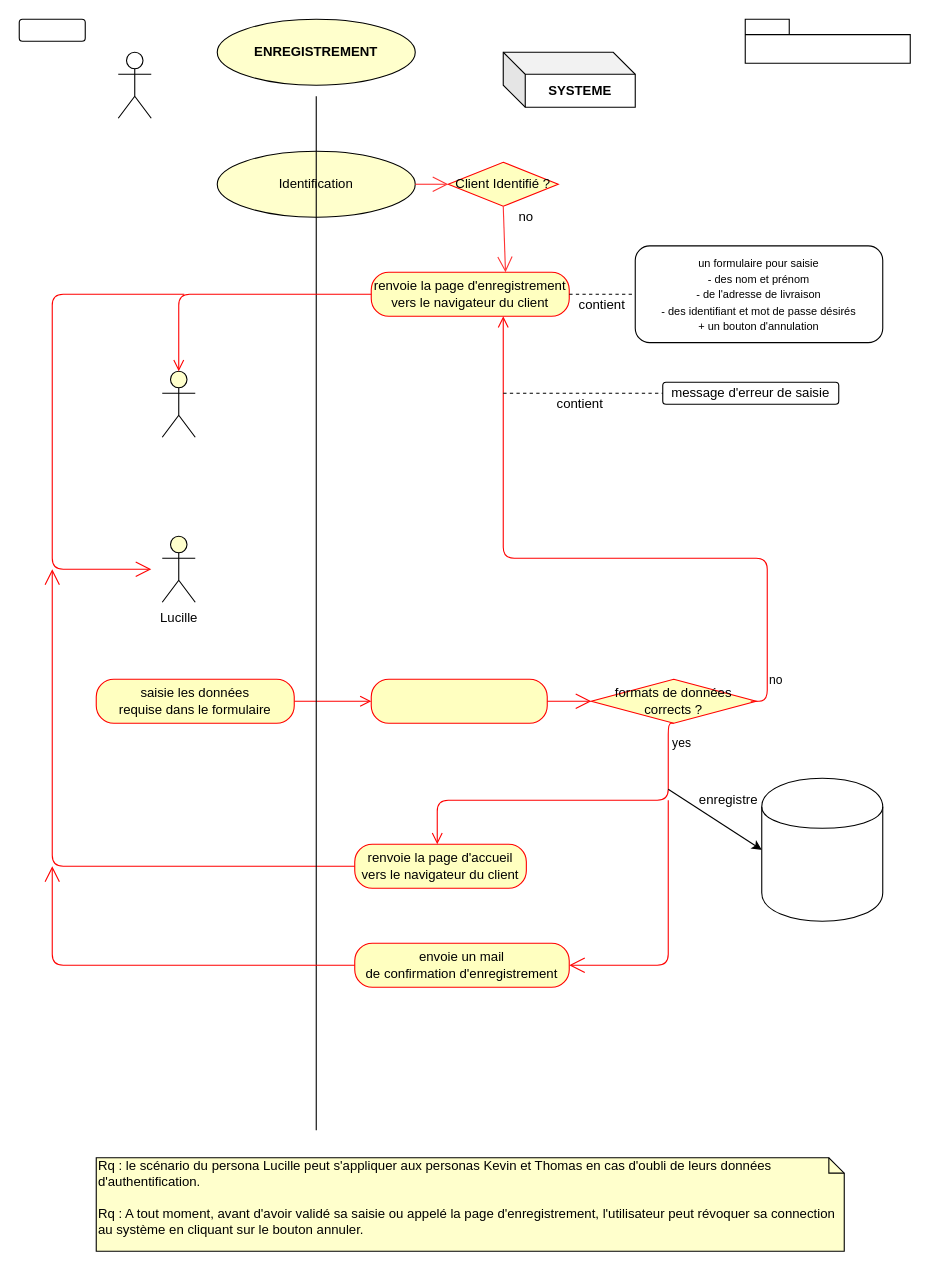
Some shapes in this 930 by 1271 pixel diagram are drawn without their labels. Here are the shapes that lost their labels. From the top down, the box of each, then its label:
(18, 18, 85, 41): OC'Pizza
(744, 18, 910, 63): Gestion des Commandes
(117, 51, 151, 118): CLIENT
(161, 370, 195, 437): Thomas ou Kevin si oubli de leurs données d'identification
(370, 678, 547, 723): vérifie la conformité des données saisies
(761, 777, 883, 921): Base de Données
